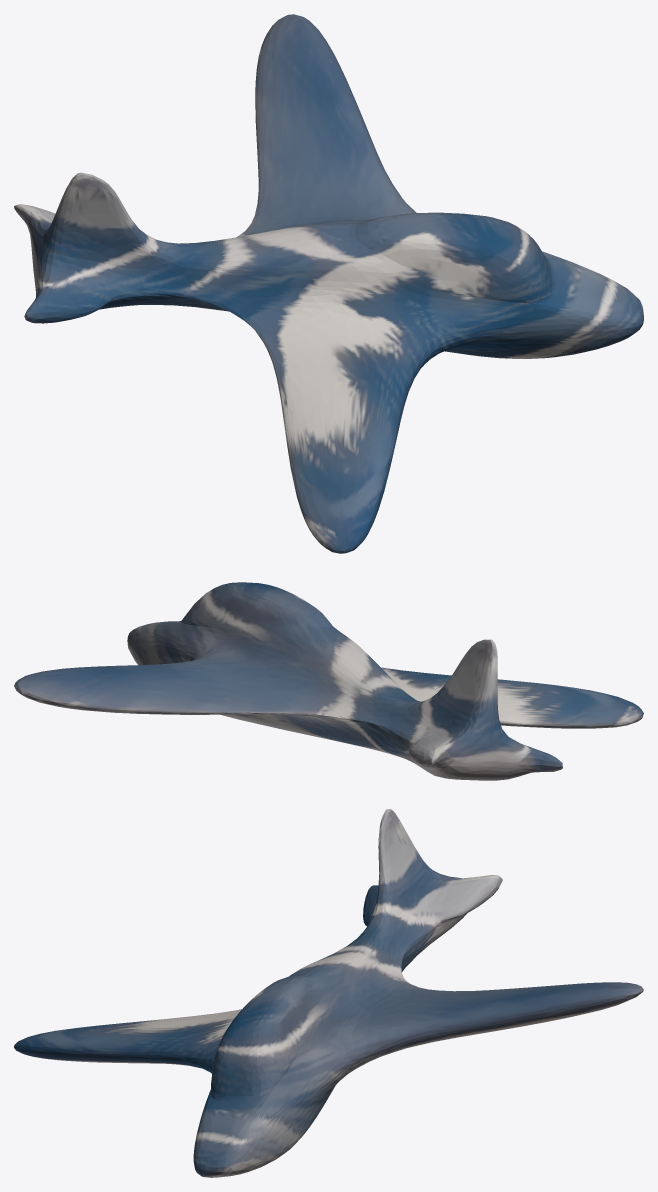
The picture shows the model from 3 angles, top to bottom: view 1: azimuth 30°, elevation 25°; view 2: azimuth 150°, elevation 25°; view 3: azimuth 270°, elevation 25°; orthographic projection. The views are drawn at different scales.
Visible parts, largest first — view 1: world; view 2: world; view 3: world.
Part boxes in pixels (x1=…): world: x1=14, y1=14, x2=643, y2=553; world: x1=14, y1=582, x2=643, y2=780; world: x1=14, y1=809, x2=643, y2=1177.
Size of the model in its own units: 0.87 by 0.3799 by 1.
